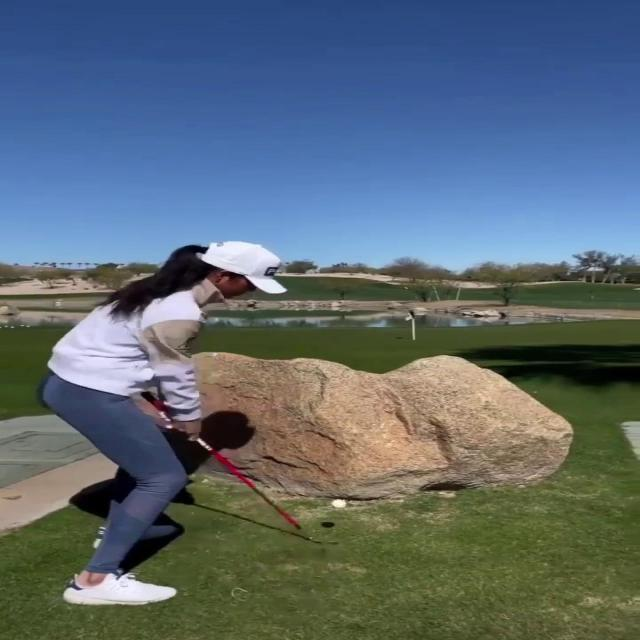ClubHead: (308, 534, 342, 545)
GolfBall: (331, 496, 348, 509)
